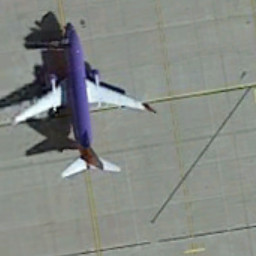Airplane: (6, 17, 162, 185)
